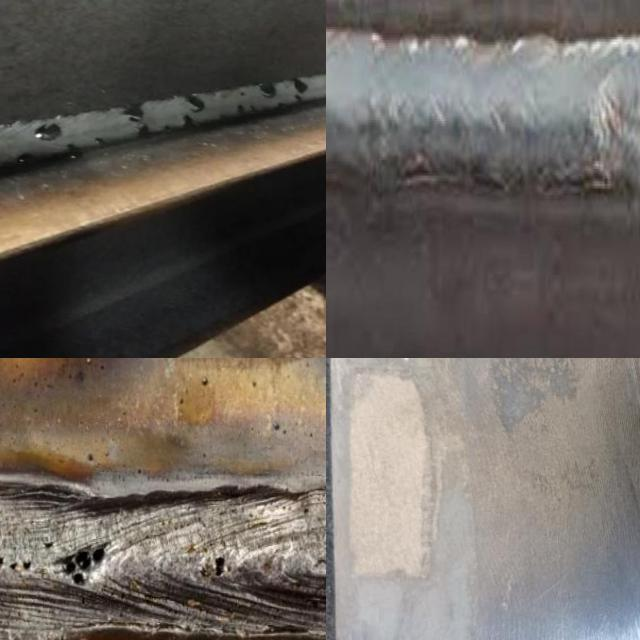defect: (49, 539, 111, 590), (31, 122, 68, 145), (113, 101, 147, 125), (0, 553, 35, 575), (211, 555, 233, 580), (290, 76, 309, 103), (184, 93, 208, 113), (64, 142, 85, 160), (257, 82, 280, 97), (178, 113, 194, 131), (15, 152, 34, 167), (235, 103, 259, 113), (135, 124, 151, 137), (93, 135, 108, 147), (43, 538, 55, 549), (164, 122, 173, 132), (236, 90, 246, 98)
